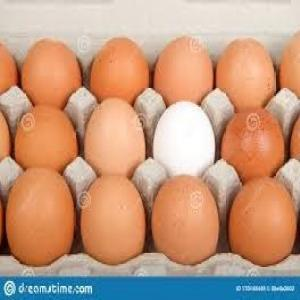Egg: (5, 164, 75, 270), (227, 176, 300, 269), (152, 172, 219, 266), (80, 174, 147, 265), (84, 96, 148, 183), (153, 99, 216, 184), (221, 106, 286, 186), (216, 35, 278, 118), (21, 36, 84, 112), (88, 34, 150, 110), (14, 104, 79, 175), (154, 36, 214, 106), (280, 28, 300, 103), (0, 38, 20, 96), (0, 105, 12, 167), (291, 102, 300, 164), (0, 183, 4, 258)
